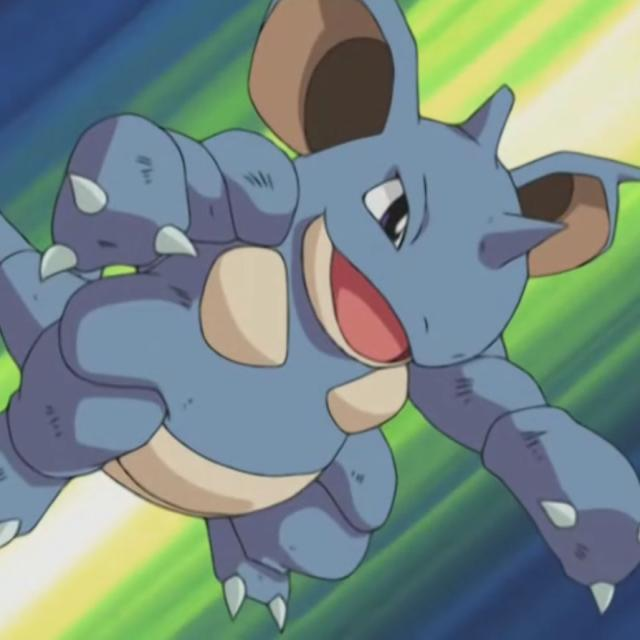Nidoqueen: (33, 1, 629, 582)
